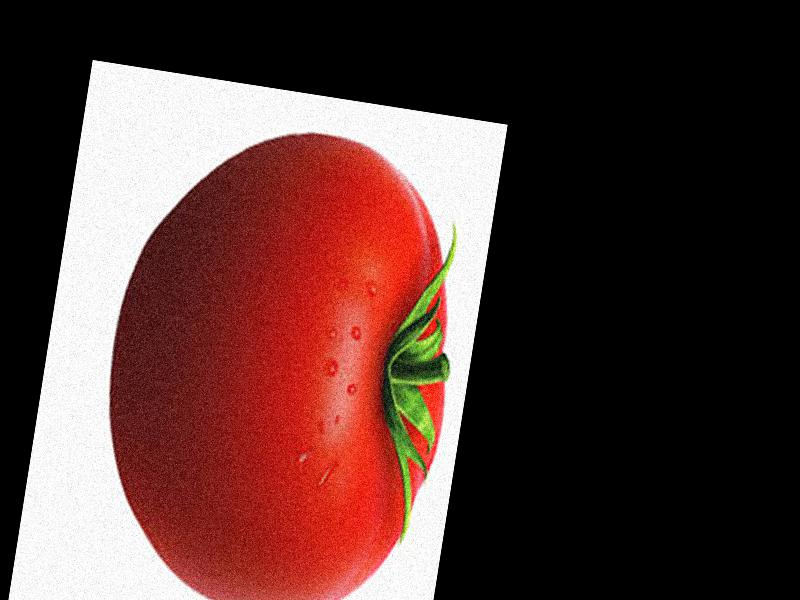Tomato: (84, 107, 483, 580)
